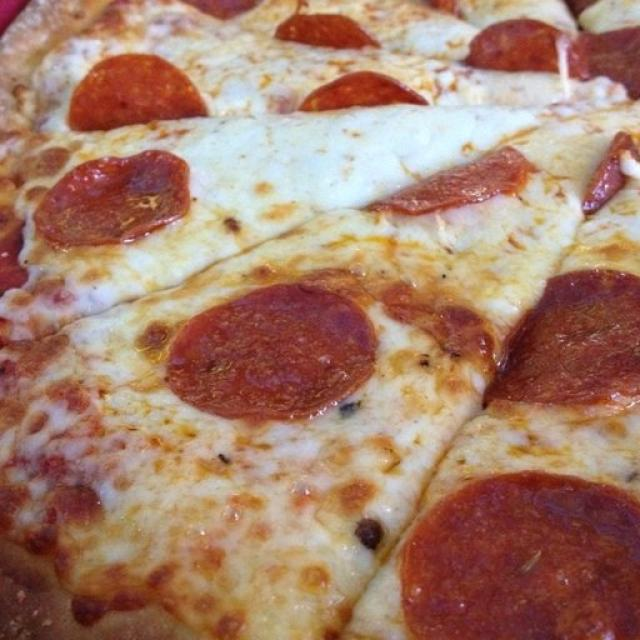Pepperoni: (391, 471, 640, 640), (157, 286, 374, 426), (481, 267, 640, 413), (36, 152, 182, 249), (466, 20, 640, 101), (60, 47, 216, 135), (376, 146, 529, 228), (295, 75, 432, 112), (581, 130, 640, 210), (271, 6, 376, 49)
Pizza: (0, 0, 640, 640)
